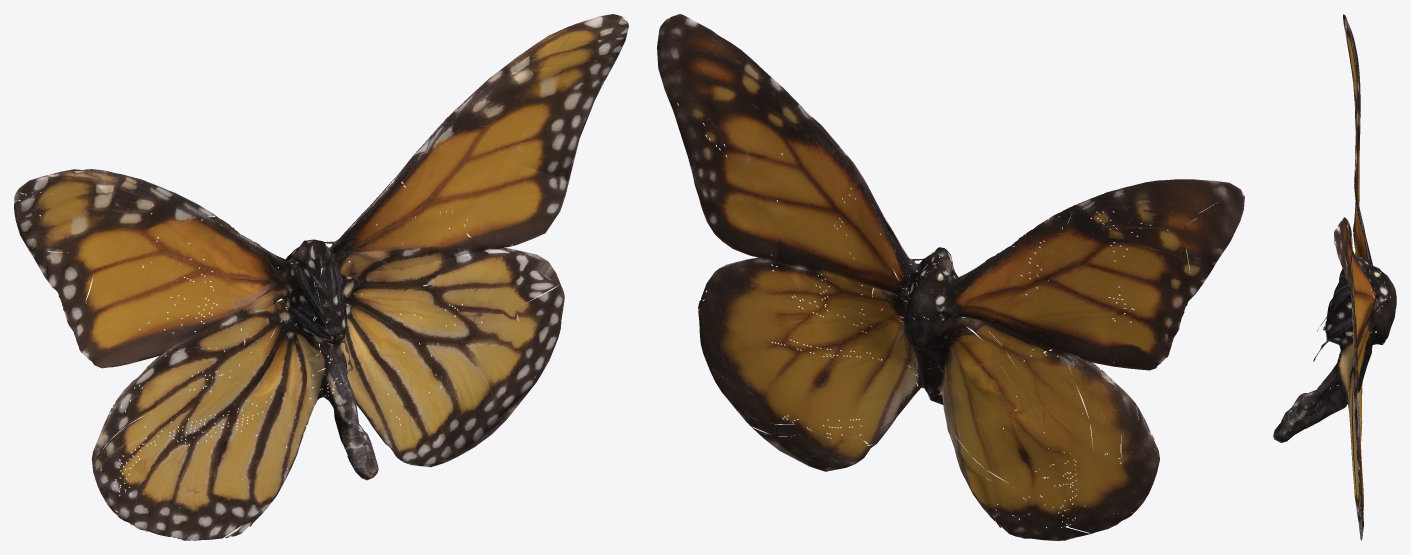
Rendered from ccby-monarch-butterfly.glb.
3 views of the same model, side by side, from view 1: azimuth 30°, elevation 25°; view 2: azimuth 150°, elevation 25°; view 3: azimuth 270°, elevation 25° (orthographic). The views are drawn at different scales.
Visible parts, largest first — view 1: Object_2, Object_4, Object_3; view 2: Object_3, Object_2, Object_4; view 3: Object_2, Object_3, Object_4.
Boxes of the visible parts, box(x1,y1,x2,y2) form: Object_2: box(14, 169, 512, 461); Object_4: box(16, 14, 628, 540); Object_3: box(92, 16, 623, 540); Object_3: box(657, 14, 1159, 540); Object_2: box(890, 179, 1244, 447); Object_4: box(663, 24, 1243, 533); Object_2: box(1293, 14, 1395, 500); Object_3: box(1273, 217, 1396, 537); Object_4: box(1323, 17, 1389, 540).
Size of the model in its own units: 1.69 by 1.17 by 0.3414.
1 material, 1 textured.
